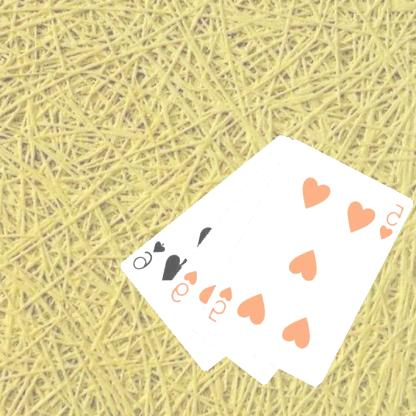5H: (377, 200, 407, 242), (206, 284, 236, 324)
6H: (169, 268, 201, 304)
9S: (130, 238, 168, 272)
